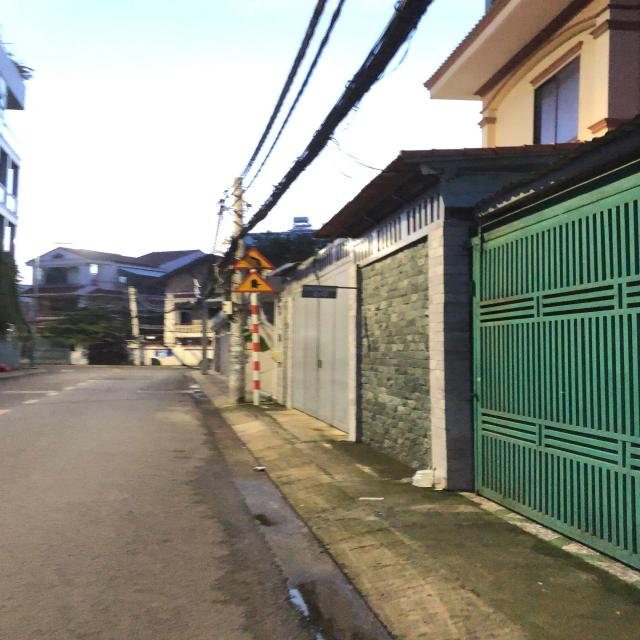Bien bao cho ngoat nguy hiem: (222, 242, 278, 268)
Bien bao giao nhau voi duong khong uu tien: (230, 266, 281, 294)
